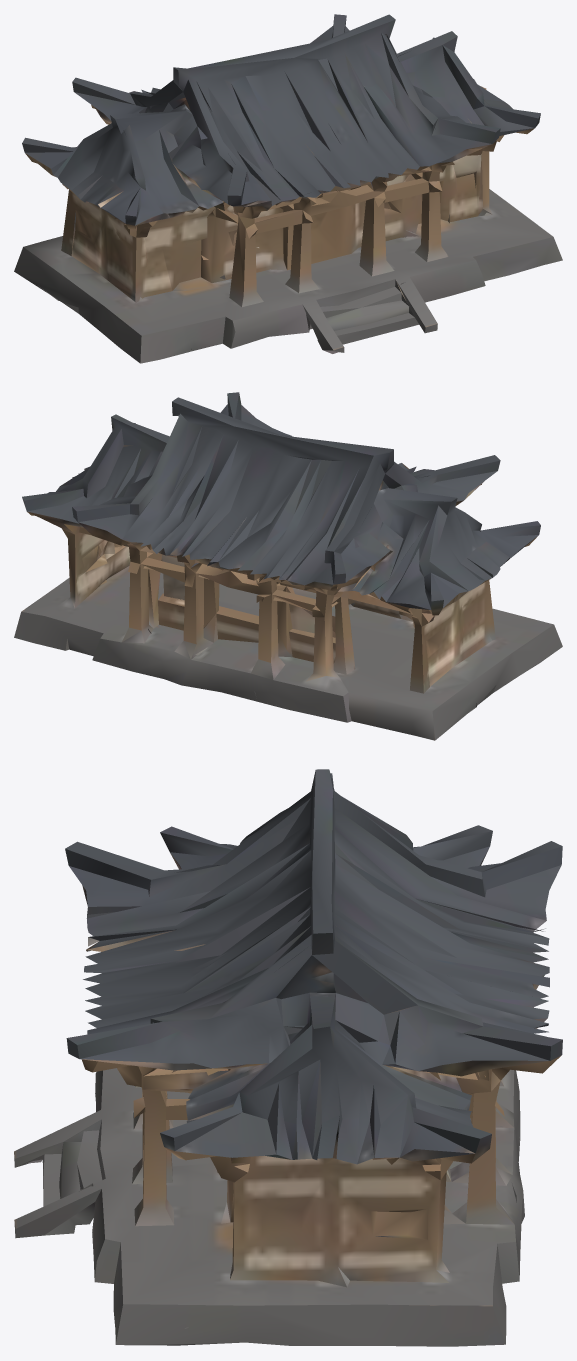
3 views of the same model, one above another, from view 1: azimuth 30°, elevation 25°; view 2: azimuth 150°, elevation 25°; view 3: azimuth 270°, elevation 25° (orthographic). The views are drawn at different scales.
Visible parts, largest first — view 1: geometry_0; view 2: geometry_0; view 3: geometry_0.
Boxes of the visible parts, x1,y1,x2,y2 form: geometry_0: (14, 14, 562, 363); geometry_0: (14, 392, 562, 740); geometry_0: (14, 769, 562, 1346).
Bounding box in the file's own units: 1 × 0.5163 × 0.7363.
1 material, 1 textured.
